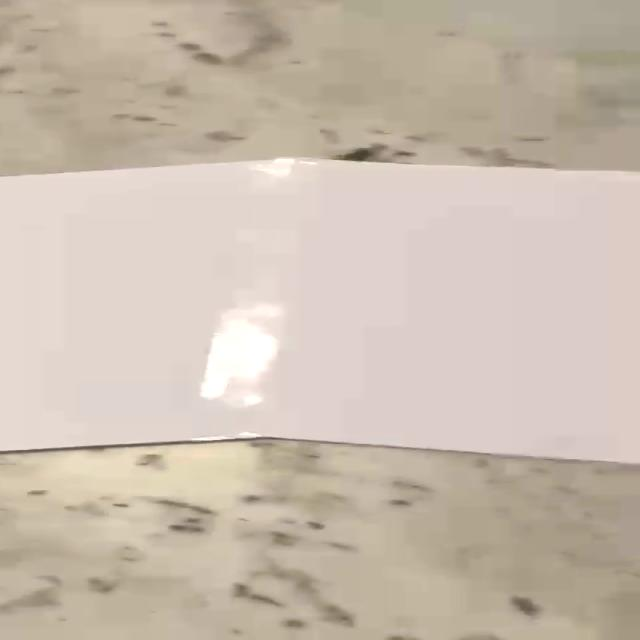road: (3, 158, 635, 463)
